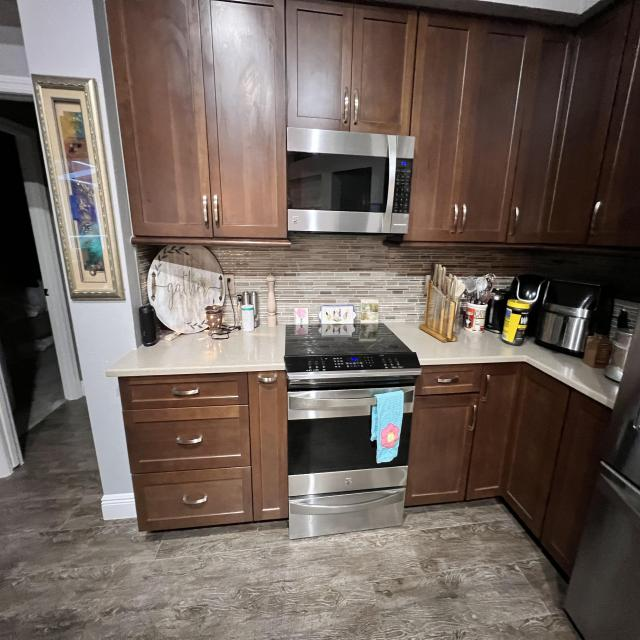Appliance_Microwave: (287, 127, 414, 236)
Appliance_Oven: (285, 303, 421, 541)
Cabinet_Shaker: (106, 0, 640, 248), (406, 363, 610, 580), (120, 371, 289, 534)
Countertop_Solid_Surface: (386, 323, 619, 407), (104, 326, 285, 378)
